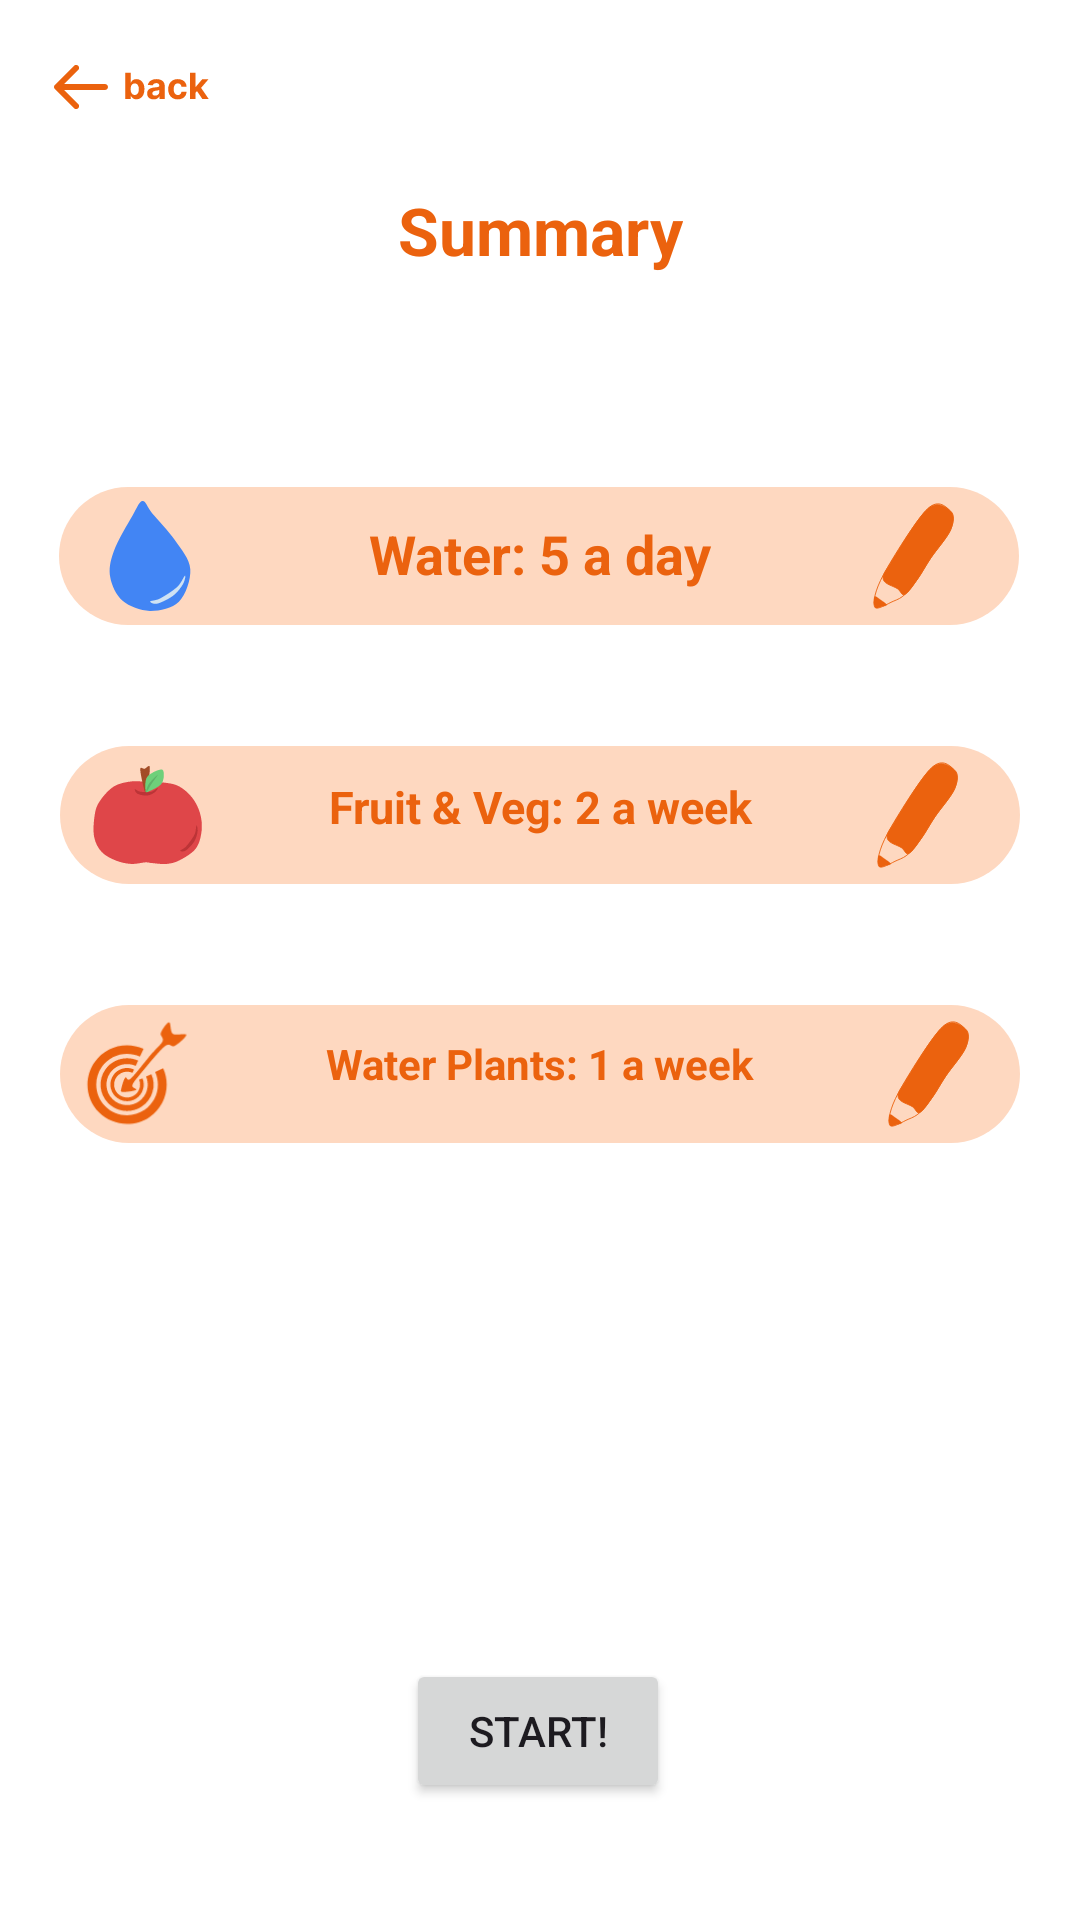

Named icons in this screenshot (1080×1920) and their centers, (x,y):
apple wrapper: (160,815)
edit: (913,556), (917,815), (928,1074)
target wrapper: (149,1074)
water wrapper: (162,556)
